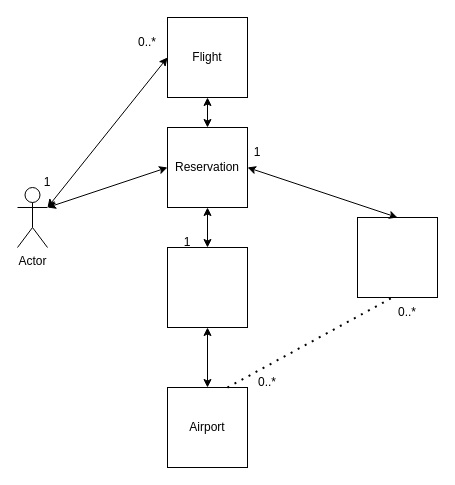
Some shapes in this 455 by 485 pixel diagram are drawn without their labels. The shapes that lost their labels are listed below. From the top down, each one's box as (x1, y1, x2, y2) in pixels, then its label:
(356, 216, 438, 298): Airplane
(166, 246, 248, 328): Baggage
